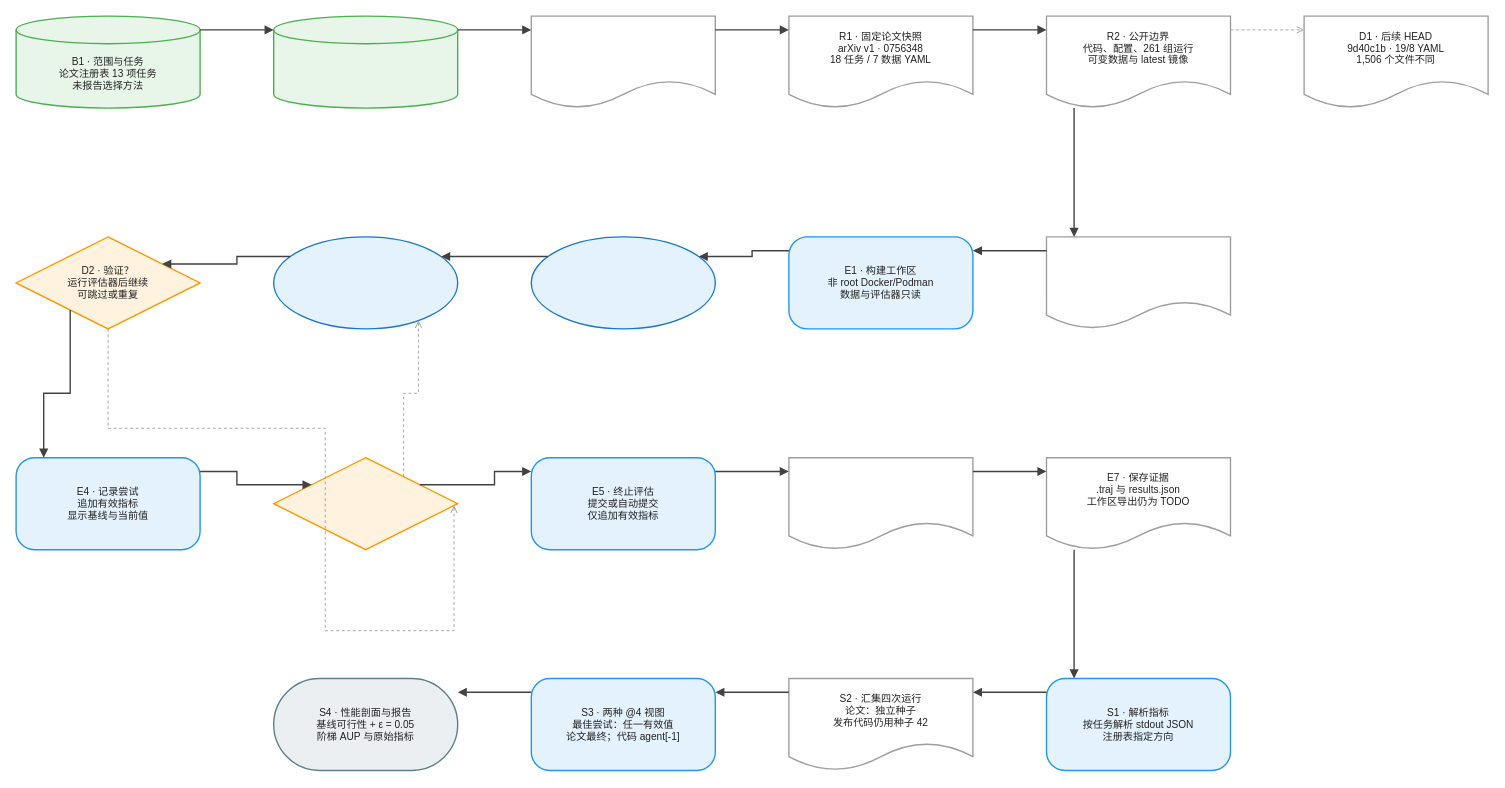
Some shapes in this 1505 by 788 pixel diagram are drawn without their labels. The centre of each missing label's shape, as x and y in pixels:
"B2 · 数据与划分 HF 加 Drive/本地 无哈希和全局 QC" goes at (x=365, y=61).
"B3 · 任务契约 YAML、评估器、超时 工件类型与指标方向" goes at (x=623, y=61).
"D3 · 终止？ 提交、限额或错误 否则继续" goes at (x=365, y=503).
"E2 · 启动框架 SWE-Agent ReAct 每步一命令；验证/提交" goes at (x=623, y=282).
"E3 · 研究循环 编辑、训练、分析 50 步；任务超时" goes at (x=365, y=282).
"E6 · 运行分类 无有效分数：失败 已有分数 + 错误：未完成" goes at (x=880, y=503).
"R3 · 启动入口失配 Agent YAML、别名、3SAT 路径 过期 --config_file" goes at (x=1138, y=282).
